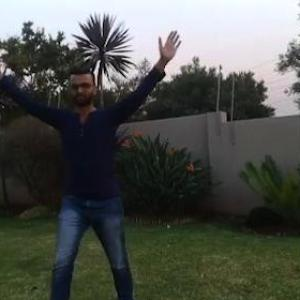takeoff: (1, 33, 182, 299)
